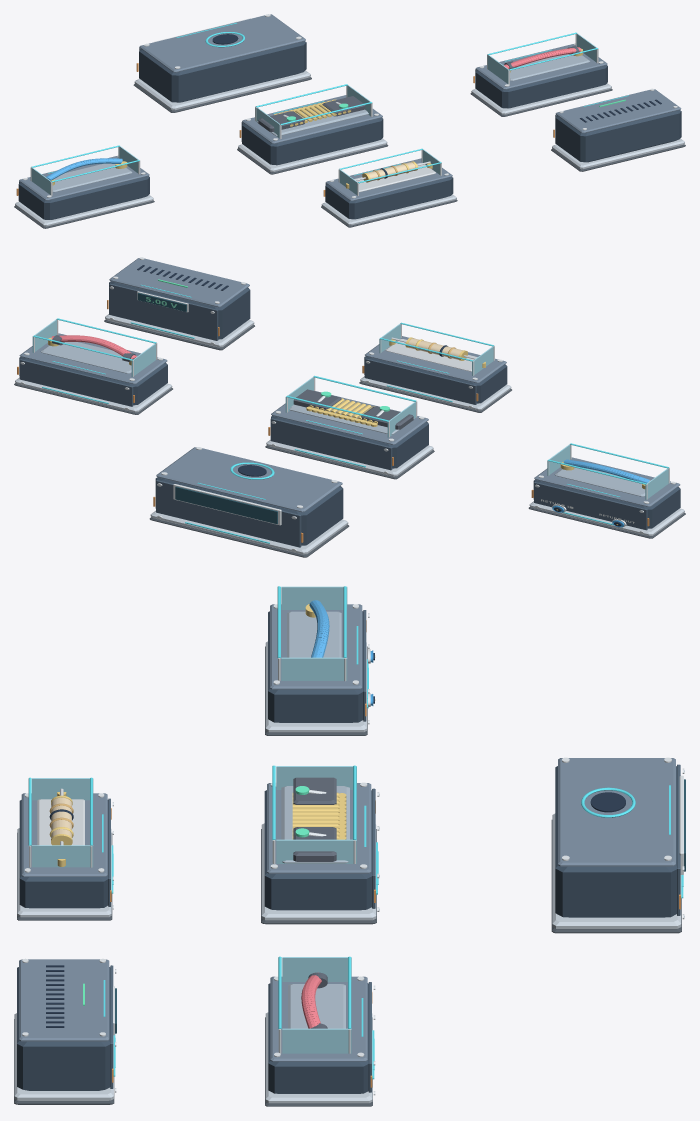
The model's file is Level37_Fitted_Assembly.fbx.
3 views of the same model, one above another, from view 1: azimuth 30°, elevation 25°; view 2: azimuth 150°, elevation 25°; view 3: azimuth 270°, elevation 25° (orthographic). The views are drawn at different scales.
Visible parts, largest first — view 1: L37_Meter_Static__graphite, L37_Meter_Static__mid_steel, L37_Supply_Static__graphite, L37_Connector_Static__graphite, L37_ForceReturn_Static__graphite, L37_Supply_Static__mid_steel, L37_ForceLead_Static__graphite, L37_Limiter_Static__graphite, L37_Meter_Static__titanium, L37_Connector_Static__mid_steel, L37_ForceLead_Static__mid_steel, L37_Limiter_Static__mid_steel (+29 smaller); view 2: L37_Meter_Static__mid_steel, L37_Supply_Static__mid_steel, L37_Meter_Static__deep_steel, L37_Supply_Static__deep_steel, L37_Connector_Static__deep_steel, L37_ForceLead_Static__deep_steel, L37_ForceReturn_Static__deep_steel, L37_Limiter_Static__deep_steel, L37_Meter_Static__graphite, L37_Connector_Static__mid_steel, L37_ForceReturn_Static__mid_steel, L37_ForceLead_Static__mid_steel (+35 smaller); view 3: L37_Meter_Static__mid_steel, L37_Supply_Static__mid_steel, L37_Meter_Static__graphite, L37_Supply_Static__graphite, L37_Connector_Static__graphite, L37_ForceLead_Static__graphite, L37_ForceReturn_Static__graphite, L37_ForceLead_Static__glass_soft, L37_ForceLead_Static__mid_steel, L37_Connector_Static__mid_steel, L37_Limiter_Static__graphite, L37_ForceReturn_Static__mid_steel (+19 smaller).
Boxes of the visible parts, bbox=[...] form: L37_Meter_Static__graphite: bbox=[139, 41, 306, 102]; L37_Meter_Static__mid_steel: bbox=[139, 14, 305, 72]; L37_Supply_Static__graphite: bbox=[555, 110, 681, 162]; L37_Connector_Static__graphite: bbox=[242, 117, 383, 165]; L37_ForceReturn_Static__graphite: bbox=[18, 176, 149, 219]; L37_Supply_Static__mid_steel: bbox=[555, 89, 681, 133]; L37_ForceLead_Static__graphite: bbox=[475, 65, 607, 108]; L37_Limiter_Static__graphite: bbox=[325, 177, 453, 219]; L37_Meter_Static__titanium: bbox=[134, 70, 310, 110]; L37_Connector_Static__mid_steel: bbox=[242, 95, 382, 143]; L37_ForceLead_Static__mid_steel: bbox=[475, 44, 607, 89]; L37_Limiter_Static__mid_steel: bbox=[325, 158, 452, 200]; L37_Meter_Static__mid_steel: bbox=[156, 447, 342, 550]; L37_Supply_Static__mid_steel: bbox=[109, 258, 249, 343]; L37_Meter_Static__deep_steel: bbox=[156, 480, 301, 547]; L37_Supply_Static__deep_steel: bbox=[109, 283, 218, 340]; L37_Connector_Static__deep_steel: bbox=[270, 418, 392, 470]; L37_ForceLead_Static__deep_steel: bbox=[19, 359, 133, 406]; L37_ForceReturn_Static__deep_steel: bbox=[534, 482, 647, 530]; L37_Limiter_Static__deep_steel: bbox=[364, 358, 476, 404]; L37_Meter_Static__graphite: bbox=[155, 477, 343, 545]; L37_Connector_Static__mid_steel: bbox=[271, 391, 428, 473]; L37_ForceReturn_Static__mid_steel: bbox=[534, 457, 680, 532]; L37_ForceLead_Static__mid_steel: bbox=[19, 333, 167, 409]; L37_Meter_Static__mid_steel: bbox=[558, 758, 684, 917]; L37_Supply_Static__mid_steel: bbox=[19, 959, 109, 1041]; L37_Meter_Static__graphite: bbox=[555, 766, 676, 917]; L37_Supply_Static__graphite: bbox=[17, 967, 110, 1090]; L37_Connector_Static__graphite: bbox=[264, 790, 371, 910]; L37_ForceLead_Static__graphite: bbox=[268, 983, 368, 1093]; L37_ForceReturn_Static__graphite: bbox=[268, 611, 363, 722]; L37_ForceLead_Static__glass_soft: bbox=[282, 957, 351, 1053]; L37_ForceLead_Static__mid_steel: bbox=[270, 976, 367, 1061]; L37_Connector_Static__mid_steel: bbox=[267, 783, 379, 910]; L37_Limiter_Static__graphite: bbox=[19, 800, 108, 908]; L37_ForceReturn_Static__mid_steel: bbox=[270, 604, 362, 689].
Bounding box in the file's own units: 167 × 12.8 × 103.
